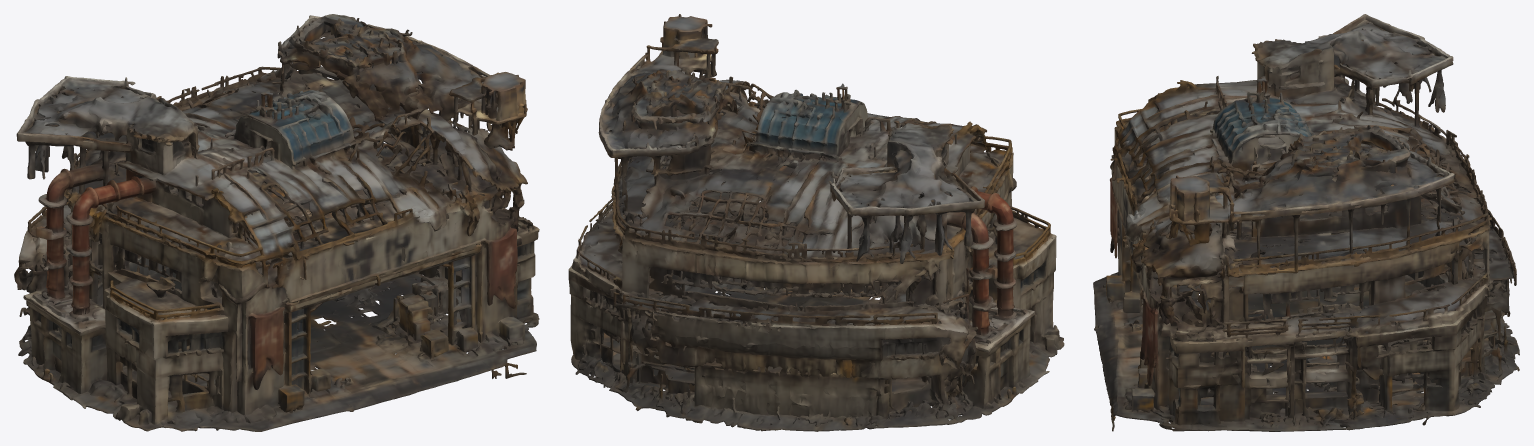
The model's file is b03_ruin.glb.
3 views of the same model, side by side, from view 1: azimuth 30°, elevation 25°; view 2: azimuth 150°, elevation 25°; view 3: azimuth 270°, elevation 25° (orthographic). The views are drawn at different scales.
Visible parts, largest first — view 1: world; view 2: world; view 3: world.
Boxes of the visible parts, <box> form: world: <box>14,14,539,431</box>; world: <box>568,14,1064,431</box>; world: <box>1093,14,1519,431</box>.
Bounding box in the file's own units: 45 × 27.26 × 39.64.
Materials: 1 (1 with a texture image).
